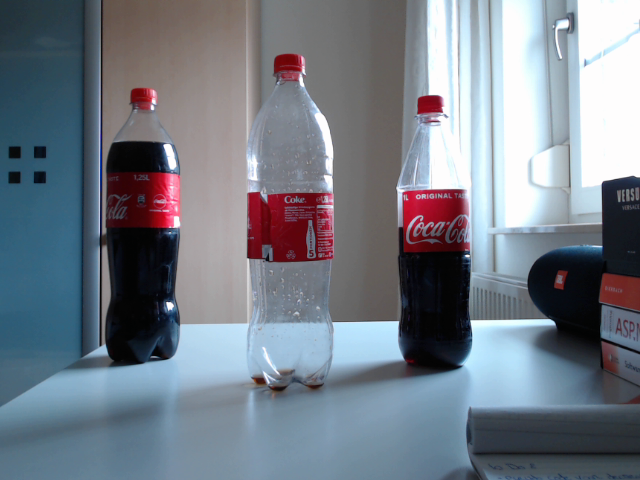bottle: (245, 53, 333, 393), (395, 95, 473, 371), (105, 88, 181, 363)
